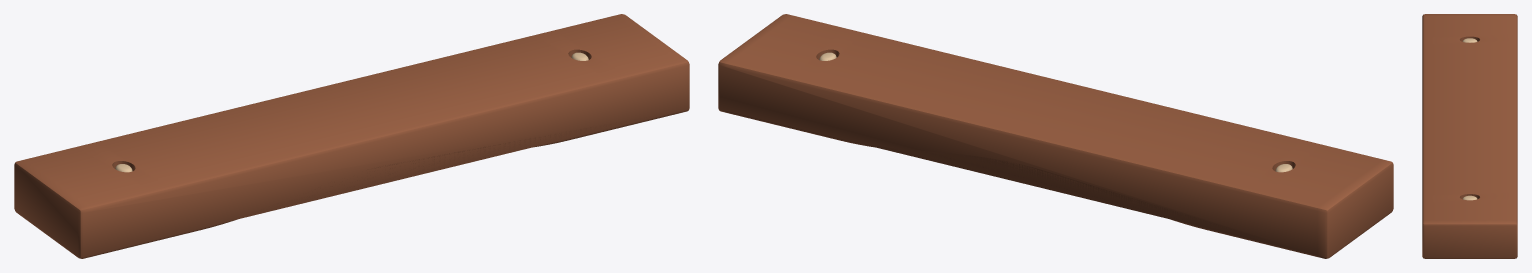
The model's file is Xylo.fbx.
3 renders of one model, left to right at view 1: azimuth 30°, elevation 25°; view 2: azimuth 150°, elevation 25°; view 3: azimuth 270°, elevation 25°, orthographic. The views are drawn at different scales.
Parts seen in each view (by area): view 1: XyloBar; view 2: XyloBar; view 3: XyloBar.
Boxes of the visible parts, <box> form: XyloBar: <box>14,14,689,258</box>; XyloBar: <box>718,14,1393,258</box>; XyloBar: <box>1422,14,1517,258</box>.
Size of the model in its own units: 27.55 by 2.2 by 5.28.
